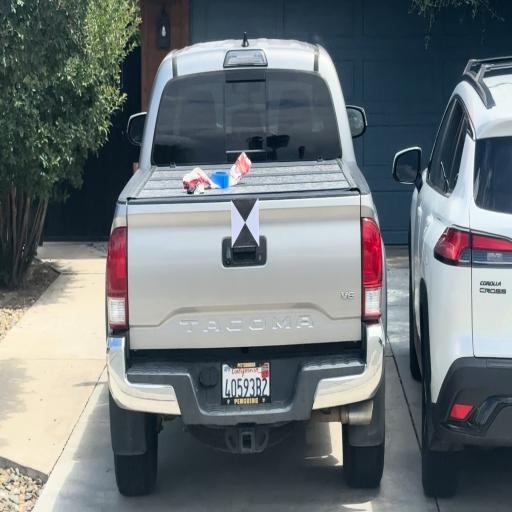target: (231, 199, 259, 245)
